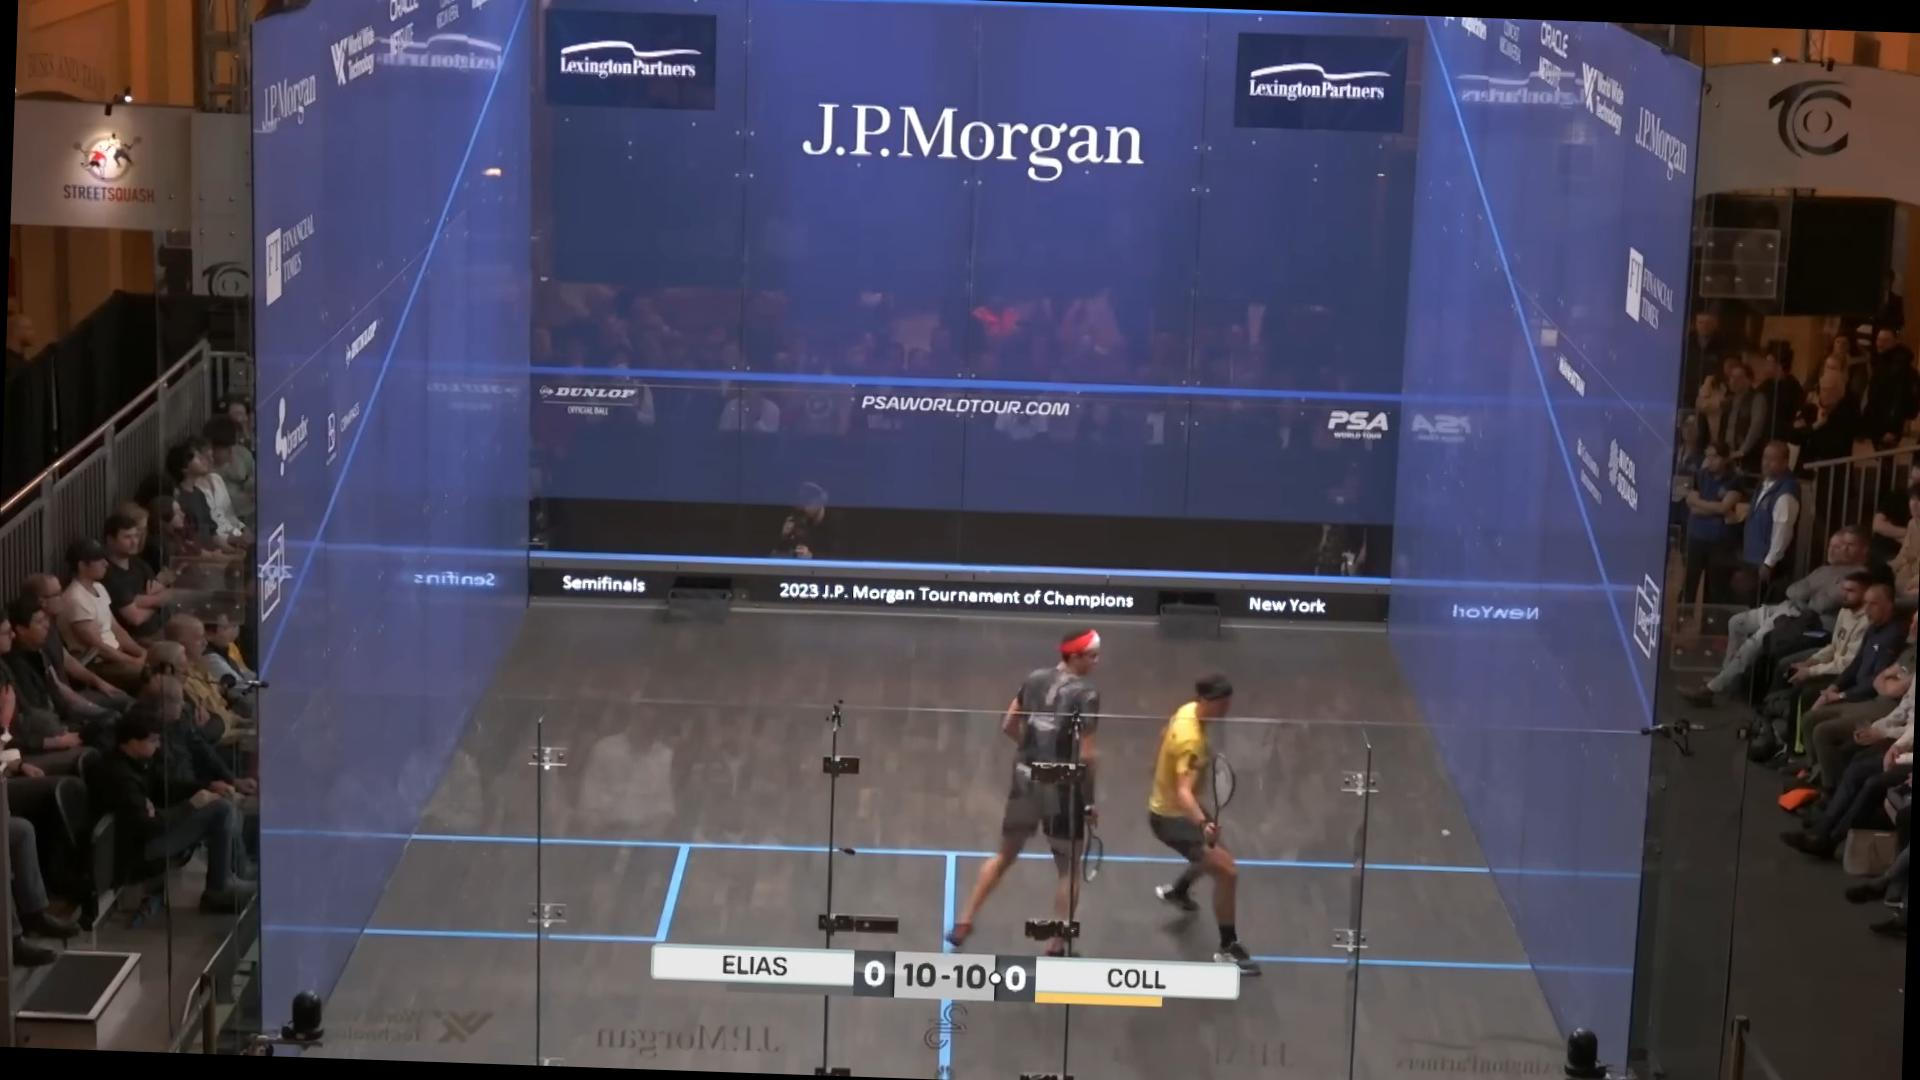Racket: (1073, 812, 1118, 894), (1205, 746, 1246, 833)
